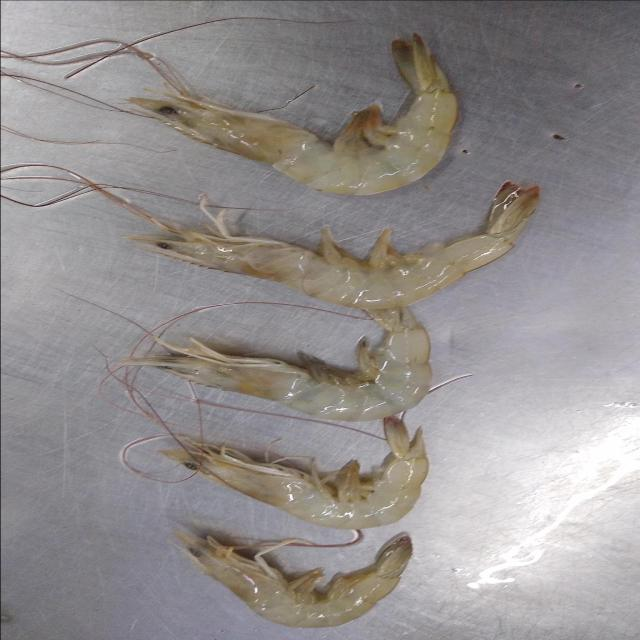shrimp: (100, 181, 540, 309), (129, 35, 458, 194), (120, 308, 431, 421), (160, 416, 429, 529), (173, 532, 411, 628)
